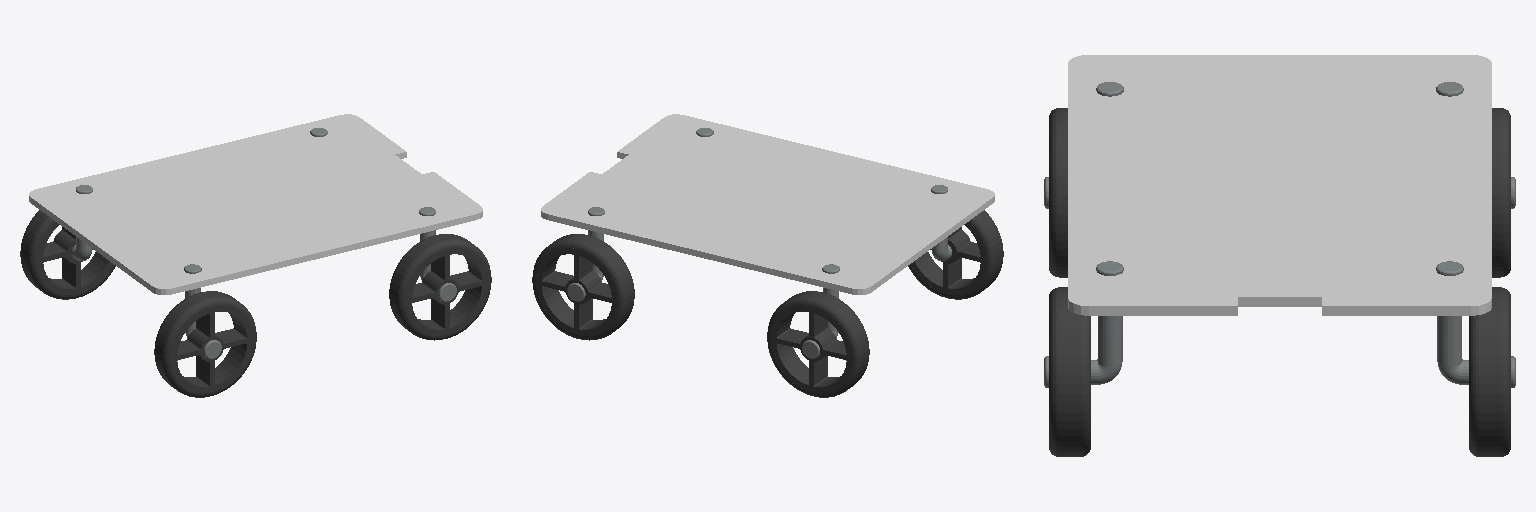
The robot description file, URDF, robot "newbot2":
<?xml version="1.0" encoding="utf-8"?>
<!-- This URDF was automatically created by SolidWorks to URDF Exporter! Originally created by [author] ([email redacted]) 
     Commit Version: 1.6.0-1-g15f4949  Build Version: 1.6.7594.29634
     For more information, please see http://wiki.ros.org/sw_urdf_exporter -->
<robot
  name="newbot2">
  <link name="dummy">
  </link>
  <joint
    name="dummy"
    type="fixed">
    <parent link="dummy"/>
    <child link="base_link"/>
  </joint>

  <link
    name="base_link">
    <inertial>
      <origin
        xyz="-0.0024903442012708 2.61342180056364E-19 0.229616"
        rpy="0 0 0" />
      <mass
        value="11.0110587542618" />
      <inertia
        ixx="0.236170687813653"
        ixy="7.64935441596338E-17"
        ixz="2.59145699930236E-19"
        iyy="0.454825212618061"
        iyz="4.68308850116304E-19"
        izz="0.690699904820635" />
    </inertial>
    <visual>
      <origin
        xyz="0 0 0"
        rpy="0 0 0" />
      <geometry>
        <mesh
          filename="package://newbot2/meshes/base_link.STL" />
      </geometry>
      <material
        name="">
        <color
          rgba="0.847058823529412 0.847058823529412 0.847058823529412 1" />
      </material>
    </visual>
    <collision>
      <origin
        xyz="0 0 0"
        rpy="0 0 0" />
      <geometry>
        <mesh
          filename="package://newbot2/meshes/base_link.STL" />
      </geometry>
    </collision>
  </link>
  <link
    name="FL_L">
    <inertial>
      <origin
        xyz="5.55111512312578E-17 -0.0150317886588243 -0.0884514952091744"
        rpy="0 0 0" />
      <mass
        value="1.19229443464426" />
      <inertia
        ixx="0.00341724741154984"
        ixy="-2.44215429815691E-19"
        ixz="-3.12486381065568E-19"
        iyy="0.00273734926033021"
        iyz="-0.000824153890762725"
        izz="0.000818318452755266" />
    </inertial>
    <visual>
      <origin
        xyz="0 0 0"
        rpy="0 0 0" />
      <geometry>
        <mesh
          filename="package://newbot2/meshes/FL_L.STL" />
      </geometry>
      <material
        name="">
        <color
          rgba="0.529411764705882 0.549019607843137 0.549019607843137 1" />
      </material>
    </visual>
    <collision>
      <origin
        xyz="0 0 0"
        rpy="0 0 0" />
      <geometry>
        <mesh
          filename="package://newbot2/meshes/FL_L.STL" />
      </geometry>
    </collision>
  </link>
  <joint
    name="FL_J"
    type="revolute">
    <origin
      xyz="0.254 -0.2032 0.23597"
      rpy="0 0 0" />
    <parent
      link="base_link" />
    <child
      link="FL_L" />
    <axis
      xyz="0 0 1" />
    <dynamics friction="0.5" />
    <limit effort="100.0" lower="-1" upper="1" velocity="30"/>
  </joint>
  <link
    name="WFL_L">
    <inertial>
      <origin
        xyz="0 -0.0254000000000001 0"
        rpy="0 0 0" />
      <mass
        value="0.886563918408615" />
      <inertia
        ixx="0.0031294160757788"
        ixy="1.5678257667547E-18"
        ixz="-1.60794734545388E-19"
        iyy="0.00590313893142078"
        iyz="-7.34853173931389E-19"
        izz="0.0031294160757788" />
    </inertial>
    <visual>
      <origin
        xyz="0 0 0"
        rpy="0 0 0" />
      <geometry>
        <mesh
          filename="package://newbot2/meshes/WFL_L.STL" />
      </geometry>
      <material
        name="">
        <color
          rgba="0.298039215686275 0.298039215686275 0.298039215686275 1" />
      </material>
    </visual>
    <collision>
      <origin
        xyz="0 0 0"
        rpy="0 0 0" />
      <geometry>
        <mesh
          filename="package://newbot2/meshes/WFL_L.STL" />
      </geometry>
    </collision>
  </link>
  <joint
    name="WFL_J"
    type="continuous">
    <origin
      xyz="0 -0.02251 -0.13438"
      rpy="0 0 0" />
    <parent
      link="FL_L" />
    <child
      link="WFL_L" />
    <axis
      xyz="0 1 0" />
    <limit effort="100.0" velocity="50"/>
  </joint>
  <link
    name="FR_L">
    <inertial>
      <origin
        xyz="-8.88178419700125E-16 0.0150317886588243 -0.0884514952091771"
        rpy="0 0 0" />
      <mass
        value="1.19229443464426" />
      <inertia
        ixx="0.00341724741154984"
        ixy="8.38215077697555E-18"
        ixz="-2.67413334511279E-17"
        iyy="0.00273734926033021"
        iyz="0.000824153890762725"
        izz="0.000818318452755266" />
    </inertial>
    <visual>
      <origin
        xyz="0 0 0"
        rpy="0 0 0" />
      <geometry>
        <mesh
          filename="package://newbot2/meshes/FR_L.STL" />
      </geometry>
      <material
        name="">
        <color
          rgba="0.529411764705882 0.549019607843137 0.549019607843137 1" />
      </material>
    </visual>
    <collision>
      <origin
        xyz="0 0 0"
        rpy="0 0 0" />
      <geometry>
        <mesh
          filename="package://newbot2/meshes/FR_L.STL" />
      </geometry>
    </collision>
  </link>
  <joint
    name="FR_J"
    type="revolute">
    <origin
      xyz="0.254 0.2032 0.23597"
      rpy="0 0 0" />
    <parent
      link="base_link" />
    <child
      link="FR_L" />
    <axis
      xyz="0 0 1" />
    <dynamics friction="0.5" />
    <limit effort="100.0" lower="-1" upper="1" velocity="30"/>
  </joint>
  <link
    name="WFR_L">
    <inertial>
      <origin
        xyz="-1.55431223447522E-15 0.0254 6.93889390390723E-16"
        rpy="0 0 0" />
      <mass
        value="0.886563918408615" />
      <inertia
        ixx="0.0031294160757788"
        ixy="8.62985748336241E-19"
        ixz="1.46038737146381E-20"
        iyy="0.00590313893142079"
        iyz="3.87599152230217E-17"
        izz="0.0031294160757788" />
    </inertial>
    <visual>
      <origin
        xyz="0 0 0"
        rpy="0 0 0" />
      <geometry>
        <mesh
          filename="package://newbot2/meshes/WFR_L.STL" />
      </geometry>
      <material
        name="">
        <color
          rgba="0.298039215686275 0.298039215686275 0.298039215686275 1" />
      </material>
    </visual>
    <collision>
      <origin
        xyz="0 0 0"
        rpy="0 0 0" />
      <geometry>
        <mesh
          filename="package://newbot2/meshes/WFR_L.STL" />
      </geometry>
    </collision>
  </link>
  <joint
    name="WFR_J"
    type="continuous">
    <origin
      xyz="0 0.02251 -0.13438"
      rpy="0 0 0" />
    <parent
      link="FR_L" />
    <child
      link="WFR_L" />
    <axis
      xyz="0 1 0" />
    <limit effort="100.0" velocity="50"/>
  </joint>
  <link
    name="RL_L">
    <inertial>
      <origin
        xyz="-5.55111512312578E-17 -0.0150317886588243 -0.0884514952091744"
        rpy="0 0 0" />
      <mass
        value="1.19229443464426" />
      <inertia
        ixx="0.00341724741154984"
        ixy="-2.46828352278768E-19"
        ixz="-3.00038040152971E-19"
        iyy="0.00273734926033021"
        iyz="-0.000824153890762725"
        izz="0.000818318452755266" />
    </inertial>
    <visual>
      <origin
        xyz="0 0 0"
        rpy="0 0 0" />
      <geometry>
        <mesh
          filename="package://newbot2/meshes/RL_L.STL" />
      </geometry>
      <material
        name="">
        <color
          rgba="0.529411764705882 0.549019607843137 0.549019607843137 1" />
      </material>
    </visual>
    <collision>
      <origin
        xyz="0 0 0"
        rpy="0 0 0" />
      <geometry>
        <mesh
          filename="package://newbot2/meshes/RL_L.STL" />
      </geometry>
    </collision>
  </link>
  <joint
    name="RL_J"
    type="fixed">
    <origin
      xyz="-0.254 -0.2032 0.23597"
      rpy="0 0 0" />
    <parent
      link="base_link" />
    <child
      link="RL_L" />
    <axis
      xyz="0 0 1" />
  </joint>
  <link
    name="WRL_L">
    <inertial>
      <origin
        xyz="0 -0.0254000000000001 2.77555756156289E-17"
        rpy="0 0 0" />
      <mass
        value="0.886563918408615" />
      <inertia
        ixx="0.0031294160757788"
        ixy="9.65085875607427E-19"
        ixz="-3.6841590507346E-19"
        iyy="0.00590313893142079"
        iyz="-7.45163796327642E-19"
        izz="0.0031294160757788" />
    </inertial>
    <visual>
      <origin
        xyz="0 0 0"
        rpy="0 0 0" />
      <geometry>
        <mesh
          filename="package://newbot2/meshes/WRL_L.STL" />
      </geometry>
      <material
        name="">
        <color
          rgba="0.298039215686275 0.298039215686275 0.298039215686275 1" />
      </material>
    </visual>
    <collision>
      <origin
        xyz="0 0 0"
        rpy="0 0 0" />
      <geometry>
        <mesh
          filename="package://newbot2/meshes/WRL_L.STL" />
      </geometry>
    </collision>
  </link>
  <joint
    name="WRL_J"
    type="continuous">
    <origin
      xyz="0 -0.02251 -0.13438"
      rpy="0 0 0" />
    <parent
      link="RL_L" />
    <child
      link="WRL_L" />
    <axis
      xyz="0 1 0" />
    <limit effort="100.0" velocity="50"/>
  </joint>
  <link
    name="RR_L">
    <inertial>
      <origin
        xyz="-9.43689570931383E-16 0.0150317886588243 -0.0884514952091717"
        rpy="0 0 0" />
      <mass
        value="1.19229443464426" />
      <inertia
        ixx="0.00341724741154984"
        ixy="8.38215077697555E-18"
        ixz="-2.67413334511279E-17"
        iyy="0.00273734926033021"
        iyz="0.000824153890762725"
        izz="0.000818318452755266" />
    </inertial>
    <visual>
      <origin
        xyz="0 0 0"
        rpy="0 0 0" />
      <geometry>
        <mesh
          filename="package://newbot2/meshes/RR_L.STL" />
      </geometry>
      <material
        name="">
        <color
          rgba="0.529411764705882 0.549019607843137 0.549019607843137 1" />
      </material>
    </visual>
    <collision>
      <origin
        xyz="0 0 0"
        rpy="0 0 0" />
      <geometry>
        <mesh
          filename="package://newbot2/meshes/RR_L.STL" />
      </geometry>
    </collision>
  </link>
  <joint
    name="RR_J"
    type="fixed">
    <origin
      xyz="-0.254 0.2032 0.23597"
      rpy="0 0 0" />
    <parent
      link="base_link" />
    <child
      link="RR_L" />
    <axis
      xyz="0 0 1" />
  </joint>
  <link
    name="WRR_L">
    <inertial>
      <origin
        xyz="-1.55431223447522E-15 0.0253999999999999 6.24500451351651E-15"
        rpy="0 0 0" />
      <mass
        value="0.886563918408614" />
      <inertia
        ixx="0.0031294160757788"
        ixy="8.74659166709833E-19"
        ixz="-1.99696909506642E-20"
        iyy="0.00590313893142078"
        iyz="3.87713552787215E-17"
        izz="0.0031294160757788" />
    </inertial>
    <visual>
      <origin
        xyz="0 0 0"
        rpy="0 0 0" />
      <geometry>
        <mesh
          filename="package://newbot2/meshes/WRR_L.STL" />
      </geometry>
      <material
        name="">
        <color
          rgba="0.298039215686275 0.298039215686275 0.298039215686275 1" />
      </material>
    </visual>
    <collision>
      <origin
        xyz="0 0 0"
        rpy="0 0 0" />
      <geometry>
        <mesh
          filename="package://newbot2/meshes/WRR_L.STL" />
      </geometry>
    </collision>
  </link>
  <joint
    name="WRR_J"
    type="continuous">
    <origin
      xyz="0 0.02251 -0.13438"
      rpy="0 0 0" />
    <parent
      link="RR_L" />
    <child
      link="WRR_L" />
    <axis
      xyz="0 1 0" />
    <limit effort="100.0" velocity="50"/>
  </joint>
  <link
    name="Lidar_L">
    <inertial>
      <origin
        xyz="0.0120602592799758 -0.000532105279078933 -0.0252648884946074"
        rpy="0 0 0" />
      <mass
        value="0.0730843684055266" />
      <inertia
        ixx="1.95811928690083E-05"
        ixy="-1.03772873853059E-07"
        ixz="-4.28353568405993E-07"
        iyy="2.41241304548272E-05"
        iyz="9.42528600159899E-09"
        izz="4.14178195674061E-05" />
    </inertial>
    <visual>
      <origin
        xyz="0 0 0"
        rpy="0 0 0" />
      <geometry>
        <mesh
          filename="package://newbot2/meshes/Lidar_L.STL" />
      </geometry>
      <material
        name="">
        <color
          rgba="0.752941176470588 0.752941176470588 0.752941176470588 1" />
      </material>
    </visual>
    <collision>
      <origin
        xyz="0 0 0"
        rpy="0 0 0" />
      <geometry>
        <mesh
          filename="package://newbot2/meshes/Lidar_L.STL" />
      </geometry>
    </collision>
  </link>
  <joint
    name="Lidar_J"
    type="fixed">
    <origin
      xyz="0 0 0.28597"
      rpy="0 0 0" />
    <parent
      link="base_link" />
    <child
      link="Lidar_L" />
    <axis
      xyz="0 0 0" />
  </joint>

</robot>

--- What the picture shows (computed from the rendered views, not written in the file) ---
Views: 3 orthographic renders of the robot side by side, from view 1: azimuth 30°, elevation 25°; view 2: azimuth 150°, elevation 25°; view 3: azimuth 270°, elevation 25°.
Robot: newbot2 — 11 links, 10 joints (2 revolute, 4 continuous, 4 fixed); root link dummy; default pose: all joints at 0.
Visible links, largest first — view 1: base_link, WRL_L, WFL_L, WRR_L, RL_L, FL_L; view 2: base_link, WRR_L, WFR_L, WRL_L, RR_L, FR_L; view 3: base_link, WFL_L, WFR_L, WRL_L, WRR_L, FL_L, FR_L.
Boxes of the visible links, x1,y1,x2,y2 form: base_link: [29, 114, 482, 294]; WRL_L: [154, 291, 256, 397]; WFL_L: [389, 234, 491, 340]; WRR_L: [20, 210, 115, 299]; RL_L: [184, 264, 221, 358]; FL_L: [419, 207, 456, 301]; base_link: [541, 114, 994, 294]; WRR_L: [767, 291, 869, 397]; WFR_L: [532, 234, 634, 340]; WRL_L: [908, 210, 1003, 299]; RR_L: [802, 264, 839, 358]; FR_L: [567, 207, 604, 301]; base_link: [1068, 55, 1491, 315]; WFL_L: [1049, 287, 1090, 456]; WFR_L: [1469, 287, 1510, 456]; WRL_L: [1049, 108, 1067, 277]; WRR_L: [1492, 108, 1510, 277]; FL_L: [1044, 261, 1123, 387]; FR_L: [1436, 261, 1515, 387].
Bounding box of the posed robot: 0.7112 × 0.5632 × 0.2411 m (x, y, z).
Meshes: 10 distinct files referenced, 9 mesh visuals loaded (9 binary STL); not drawn: 1 (reference not matched to a file when rendering).